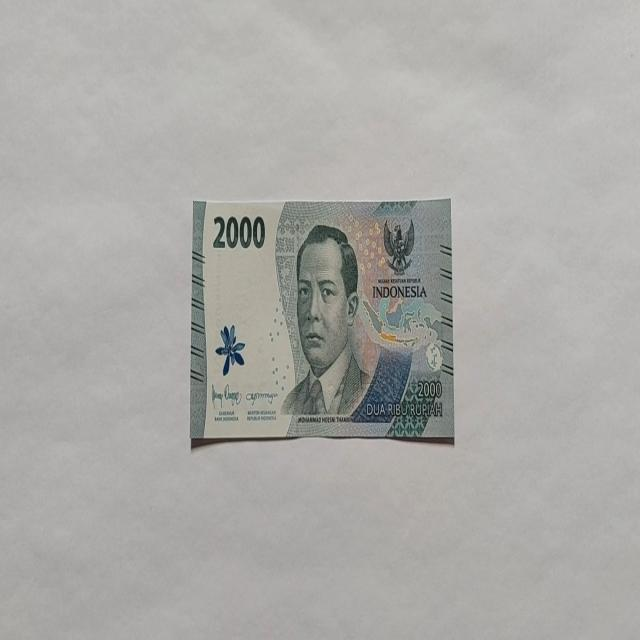dua ribu rupiah: (190, 196, 454, 446), (280, 224, 372, 418)
